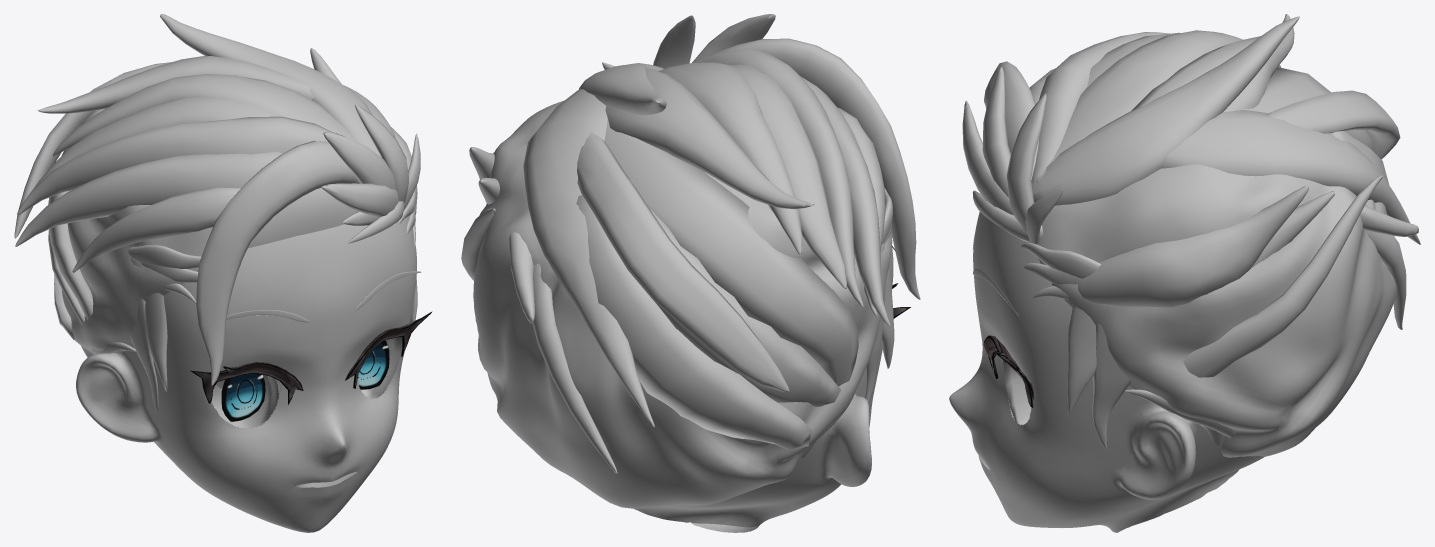
The model's file is male_hair_short_2.glb.
3 renders of one model, left to right at view 1: azimuth 30°, elevation 25°; view 2: azimuth 150°, elevation 25°; view 3: azimuth 270°, elevation 25°, orthographic. The views are drawn at different scales.
Visible parts, largest first — view 1: face_0, hair_31, hair_15, hair_20, hair_21, hair_18, hair_14, hair_22, hair_17, hair_19, hair_34, hair_32 (+16 smaller); view 2: hair_31, hair_30, hair_28, hair_6, hair_16, face_0, hair_17, hair_15, hair_18, hair_19, hair_20, hair_29 (+11 smaller); view 3: hair_31, face_0, hair_14, hair_26, hair_16, hair_18, hair_23, hair_6, hair_20, hair_17, hair_0, hair_8 (+17 smaller).
Part boxes in pixels (bbox=[...]): face_0: bbox=[76, 218, 416, 532]; hair_31: bbox=[62, 85, 415, 388]; hair_15: bbox=[196, 141, 359, 385]; hair_20: bbox=[17, 116, 333, 214]; hair_21: bbox=[15, 151, 282, 246]; hair_18: bbox=[53, 74, 357, 156]; hair_14: bbox=[160, 14, 381, 157]; hair_22: bbox=[72, 187, 240, 272]; hair_17: bbox=[38, 56, 314, 113]; hair_19: bbox=[35, 97, 280, 186]; hair_34: bbox=[221, 340, 389, 421]; hair_32: bbox=[190, 311, 432, 404]; hair_31: bbox=[473, 100, 892, 508]; hair_30: bbox=[604, 118, 858, 386]; hair_28: bbox=[576, 195, 811, 449]; hair_6: bbox=[577, 132, 789, 391]; hair_16: bbox=[523, 88, 654, 427]; face_0: bbox=[634, 247, 893, 532]; hair_17: bbox=[605, 67, 814, 209]; hair_15: bbox=[710, 38, 920, 299]; hair_18: bbox=[659, 62, 802, 255]; hair_19: bbox=[730, 64, 846, 289]; hair_20: bbox=[692, 49, 863, 307]; hair_29: bbox=[627, 178, 840, 406]; hair_31: bbox=[1037, 66, 1396, 457]; face_0: bbox=[949, 211, 1264, 532]; hair_14: bbox=[1032, 16, 1299, 205]; hair_26: bbox=[1078, 185, 1308, 307]; hair_16: bbox=[1161, 110, 1420, 244]; hair_18: bbox=[1035, 30, 1281, 182]; hair_23: bbox=[1183, 175, 1383, 377]; hair_6: bbox=[1266, 90, 1400, 159]; hair_20: bbox=[1031, 32, 1170, 185]; hair_17: bbox=[1131, 14, 1294, 112]; hair_0: bbox=[1006, 93, 1046, 231]; hair_8: bbox=[1067, 307, 1096, 414].
Size of the model in its own units: 0.304 by 0.3501 by 0.3027.
37 materials, 2 textured.
